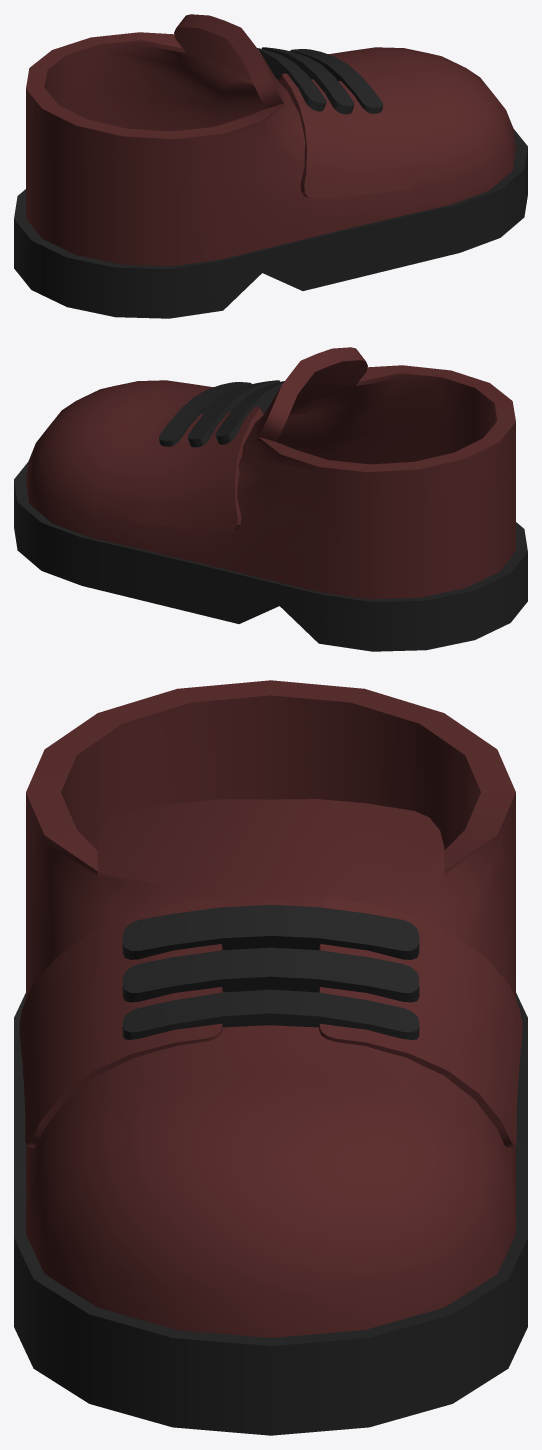
File: mans_shoe.glb
The picture shows the model from 3 angles, top to bottom: view 1: azimuth 30°, elevation 25°; view 2: azimuth 150°, elevation 25°; view 3: azimuth 270°, elevation 25°; orthographic projection. The views are drawn at different scales.
Parts seen in each view (by area): view 1: Sphere.362; view 2: Sphere.362; view 3: Sphere.362.
Part boxes in pixels (bbox=[...]): Sphere.362: bbox=[14, 14, 527, 318]; Sphere.362: bbox=[14, 347, 527, 651]; Sphere.362: bbox=[14, 680, 527, 1435].
Bounding box in the file's own units: 2.19 × 0.9222 × 1.1.
1 material, 1 textured.
